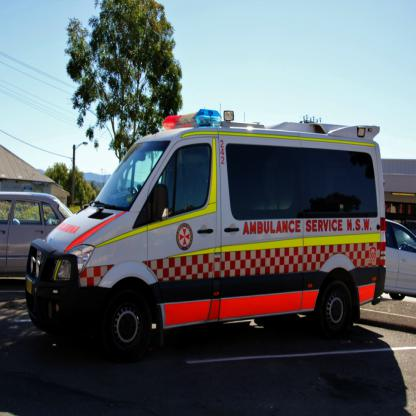Ambulance: (26, 107, 386, 361)
